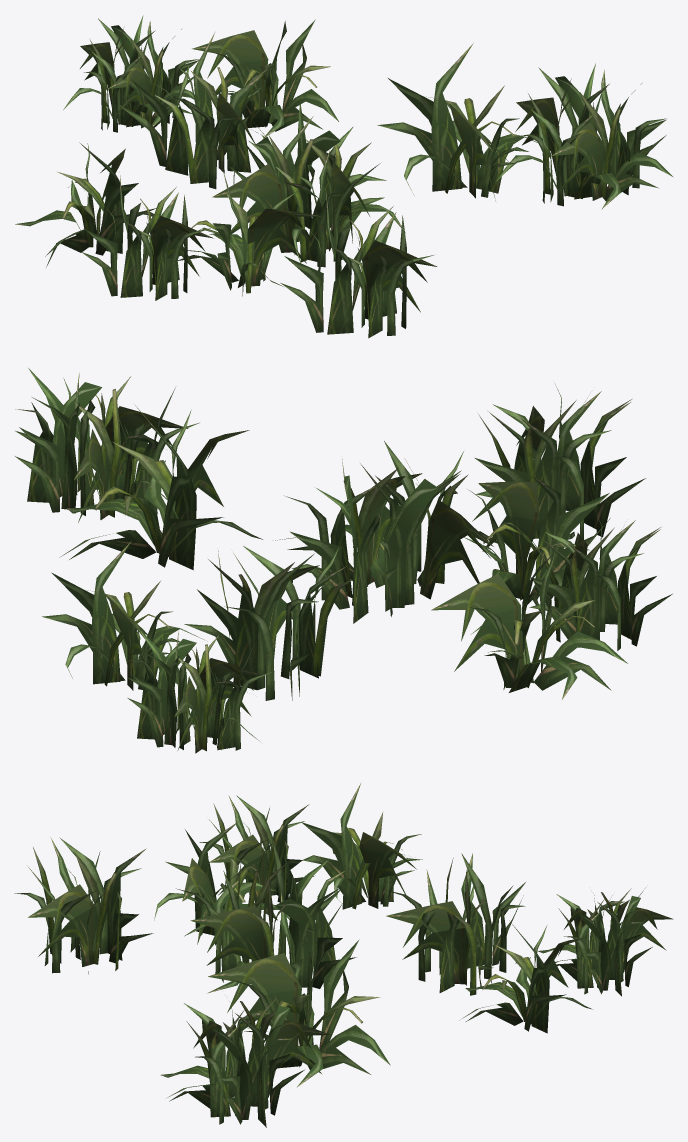
Rendered from Weed.FBX.
3 views of the same model, one above another, from view 1: azimuth 30°, elevation 25°; view 2: azimuth 150°, elevation 25°; view 3: azimuth 270°, elevation 25° (orthographic). The views are drawn at different scales.
Visible parts, largest first — view 1: LV_Elgradis_Foliage_Weed01_PM_PYO; view 2: LV_Elgradis_Foliage_Weed01_PM_PYO; view 3: LV_Elgradis_Foliage_Weed01_PM_PYO.
Boxes of the visible parts, x1,y1,x2,y2 form: LV_Elgradis_Foliage_Weed01_PM_PYO: [15, 15, 672, 338]; LV_Elgradis_Foliage_Weed01_PM_PYO: [15, 368, 672, 753]; LV_Elgradis_Foliage_Weed01_PM_PYO: [14, 783, 673, 1127].
Bounding box in the file's own units: 90.45 × 20.84 × 92.5.
